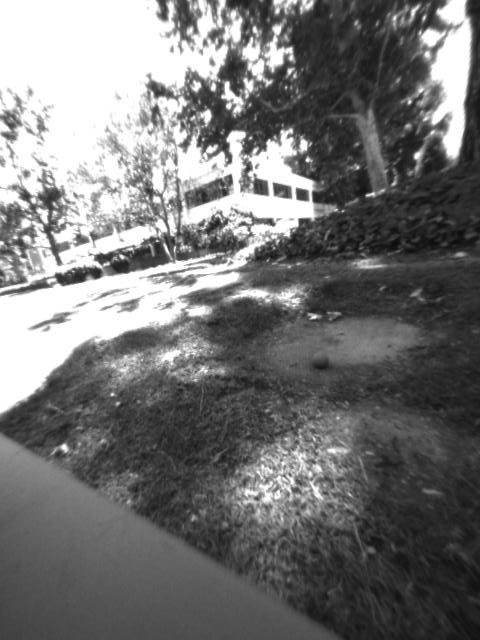dogtoy: (306, 338, 343, 379)
